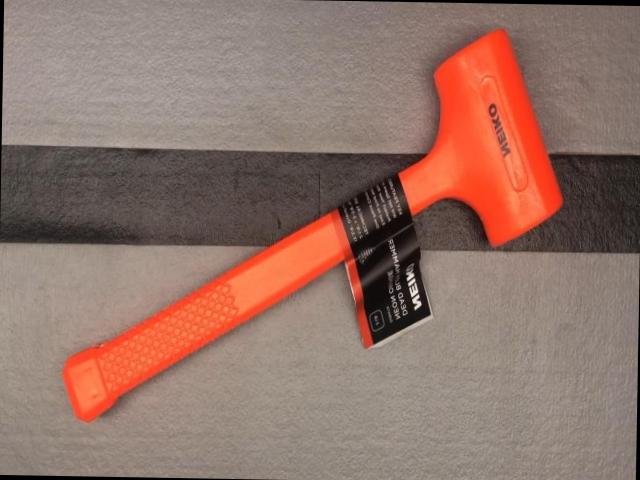hammer: (60, 22, 568, 428)
